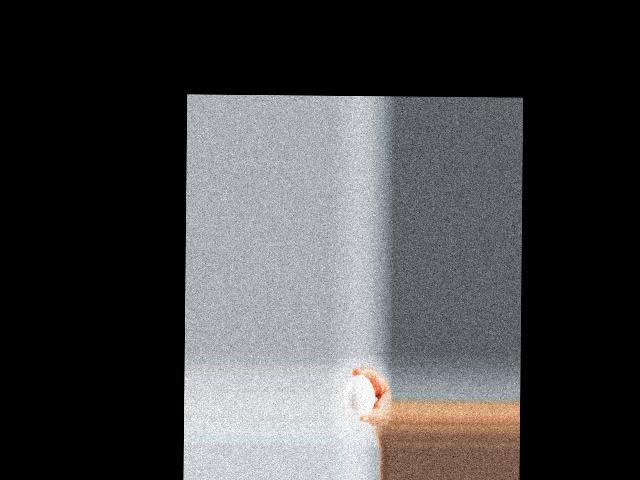egg: (343, 374, 375, 415)
